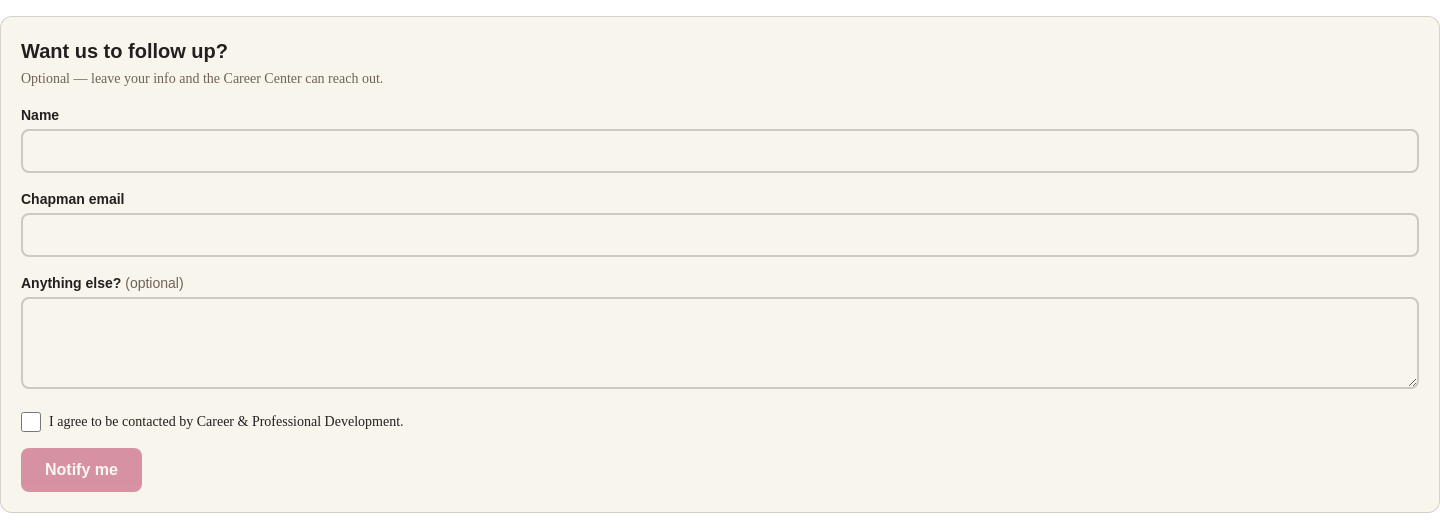
Test: ContactForm (inert prototype) › does not submit until consent is checked and fields are valid
Expected: the button "Notify me" is disabled, [21, 448, 142, 492]
Type "Pat Panther" into the field labelled "Name" at (720, 151), box [21, 129, 1419, 173]
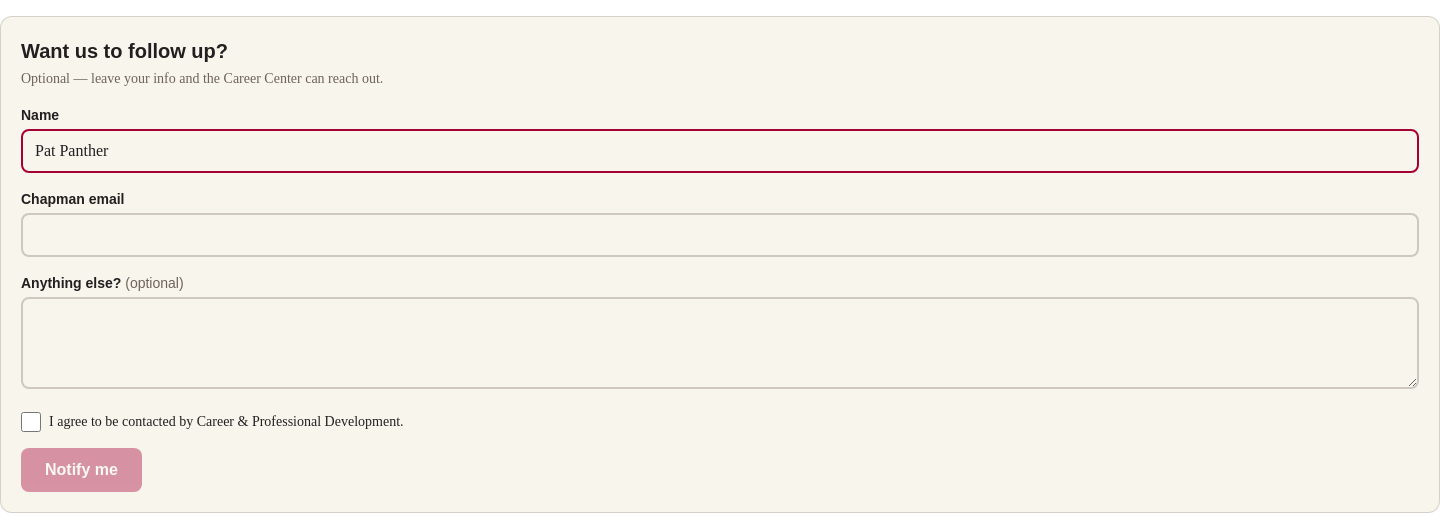
Type "pat@chapman.edu" into the field labelled "Chapman email" at (720, 235), box [21, 213, 1419, 257]
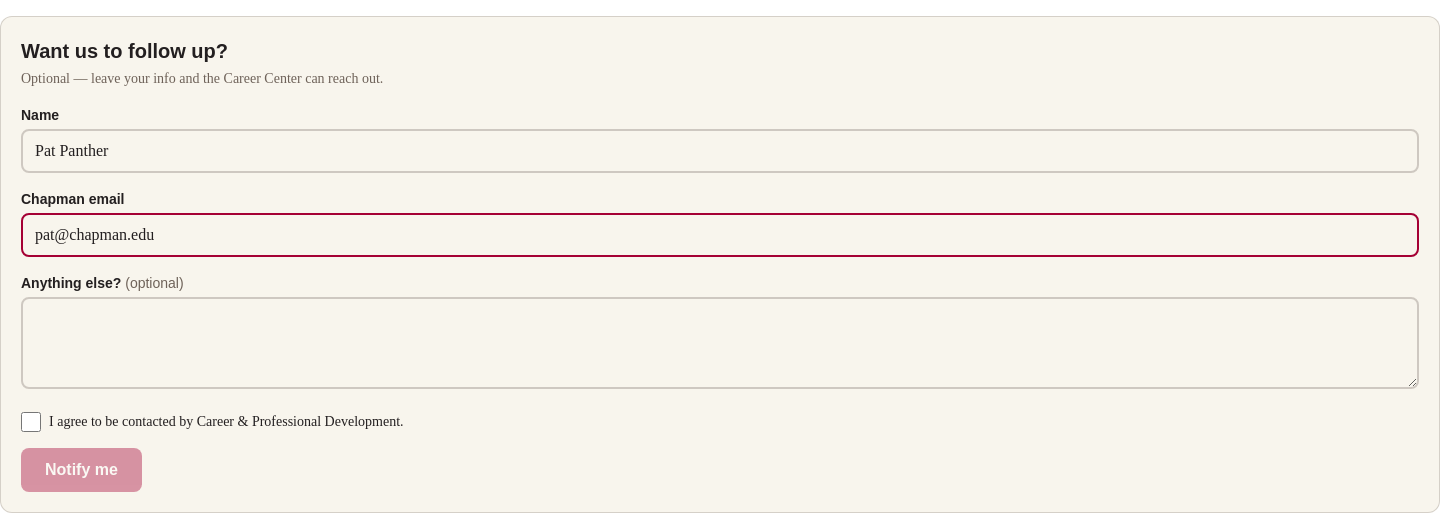
Click the checkbox labelled "agree to be contacted" at (31, 422), box [21, 412, 41, 432]
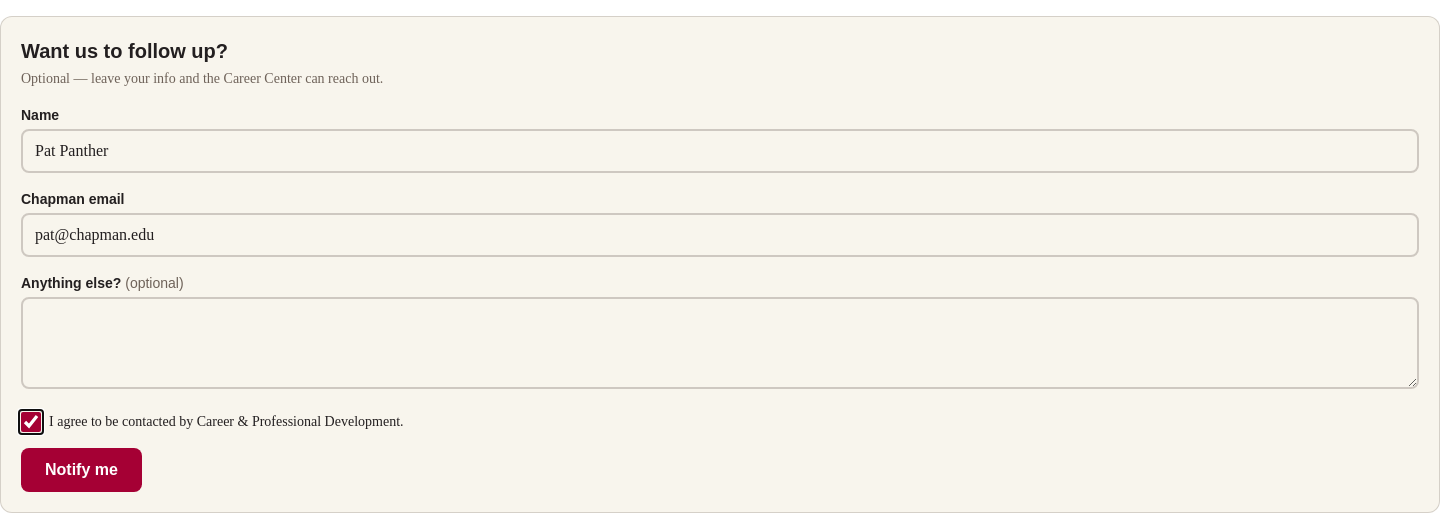
Result: the button "Notify me" is enabled at [21, 448, 142, 492]
